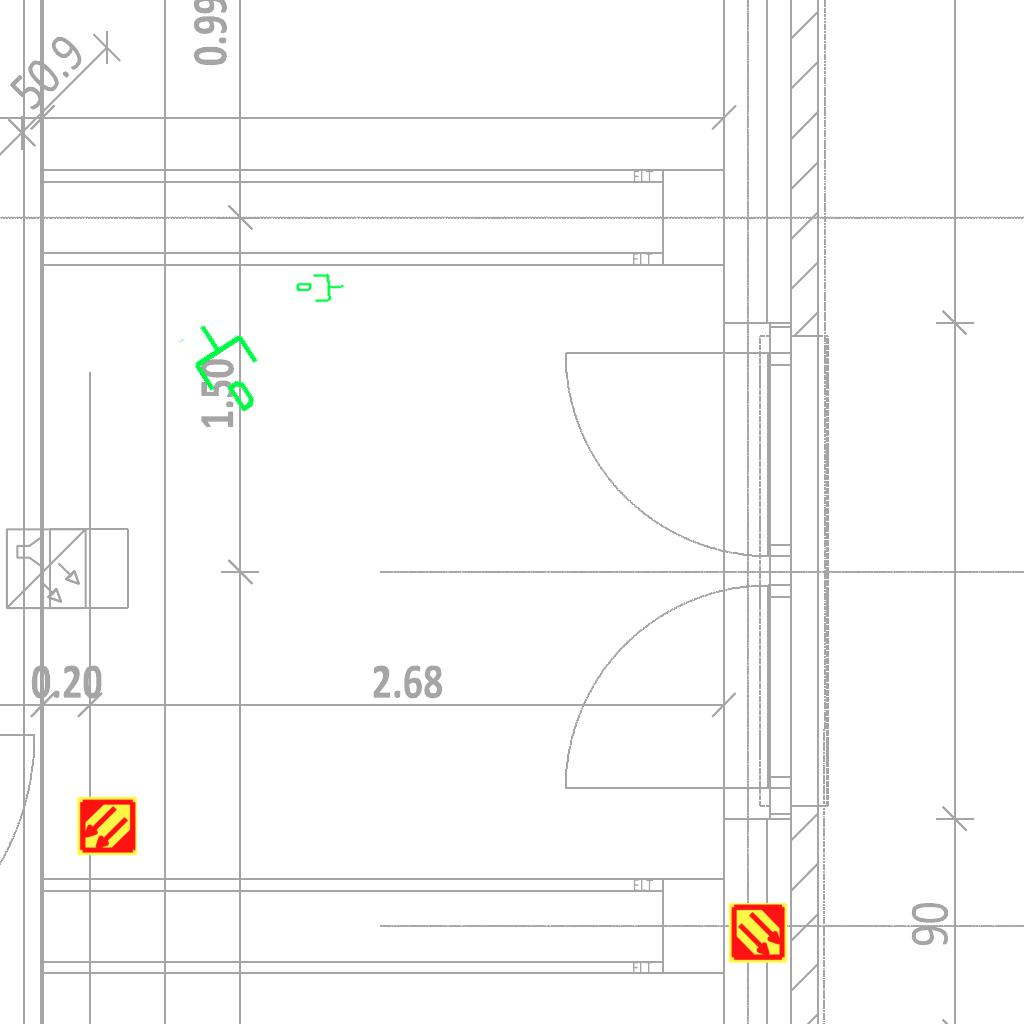ASR_Ansaugrauchmelder: (76, 795, 138, 857), (727, 902, 789, 964)
Datenanschluss_einfach: (173, 304, 286, 426), (293, 270, 347, 308)
